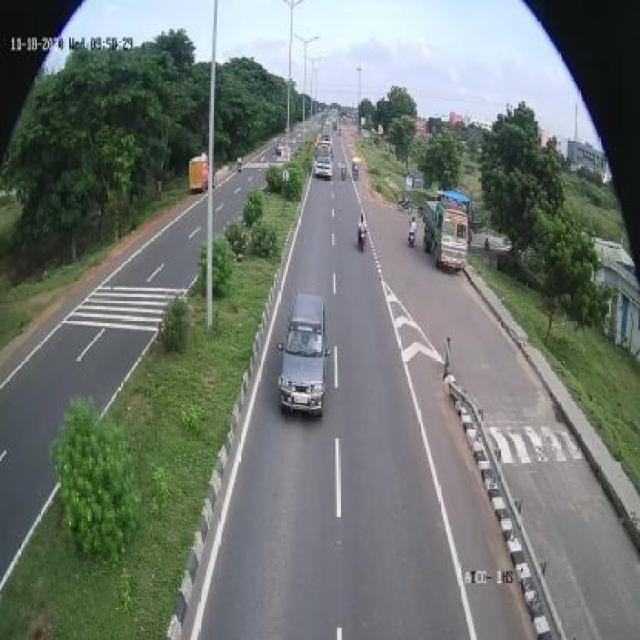car: (278, 286, 331, 420)
